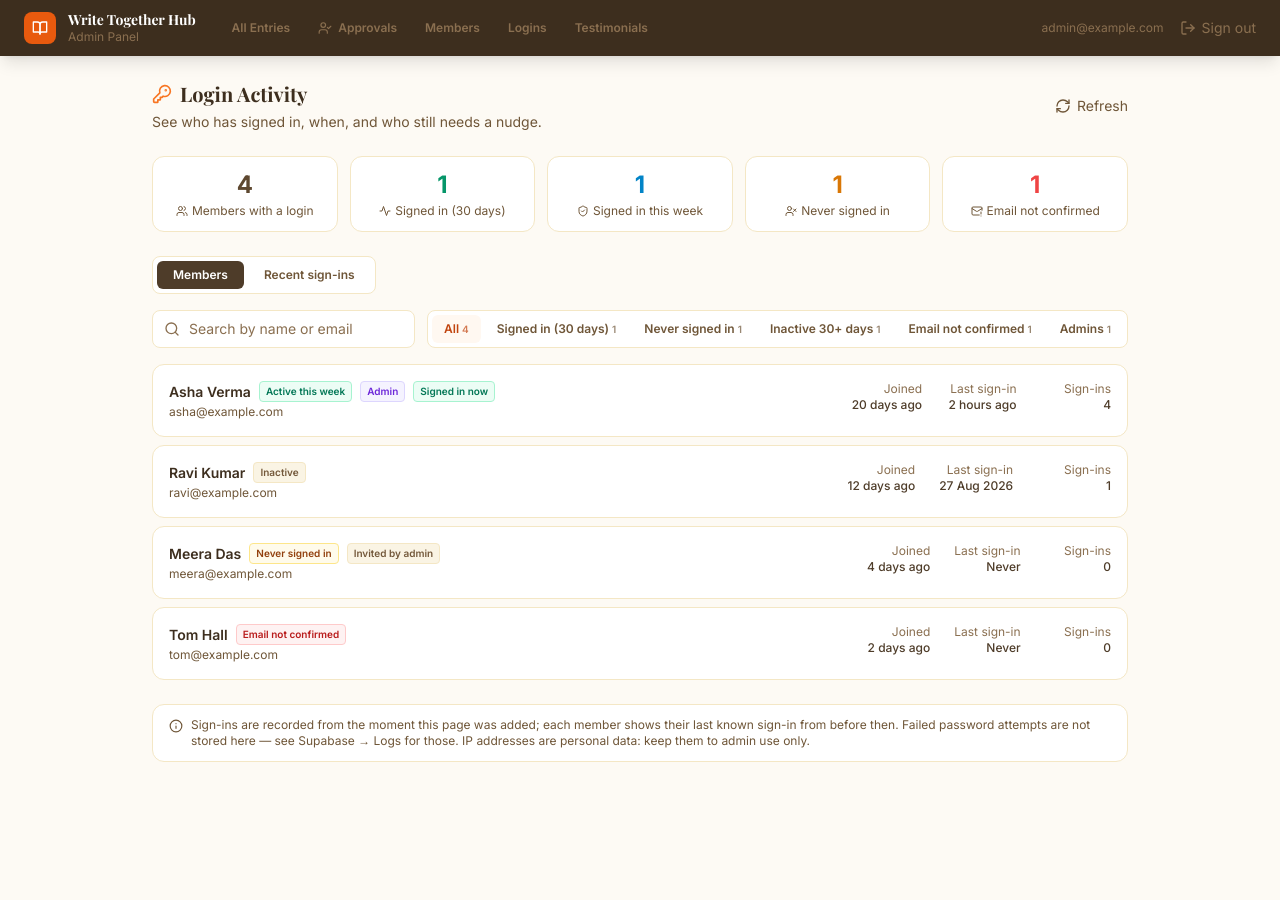
Test case: AdminLogins page › searches by name or email
Expected: the text "Asha Verma" is shown, top-left (169, 382), bottom-right (251, 402)
Type "ravi@" into the search field named "Search members" at (284, 329), box top-left (152, 310), bottom-right (415, 348)
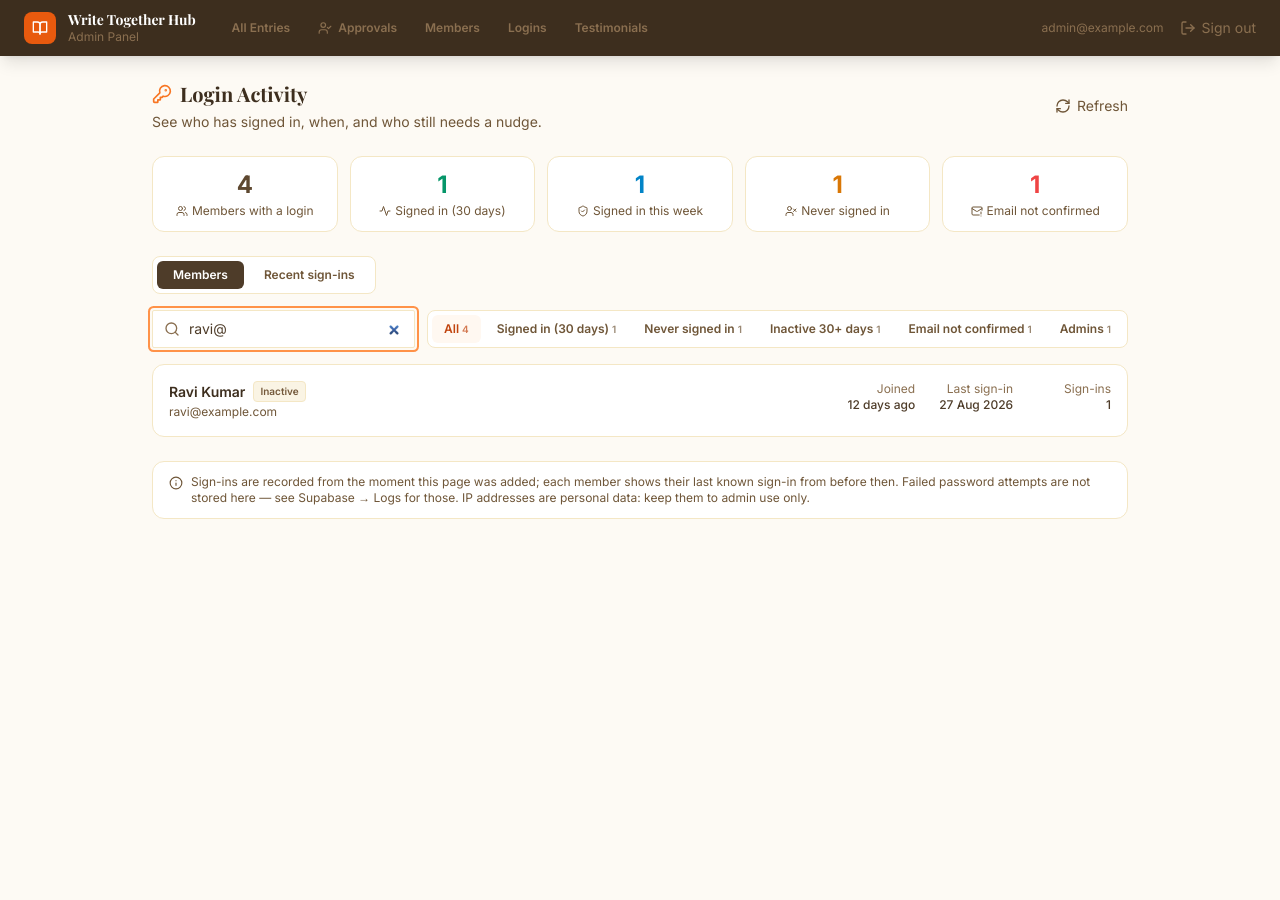
Expected: the text "Ravi Kumar" is shown, top-left (169, 382), bottom-right (245, 402)
Now the text "Asha Verma" is gone
